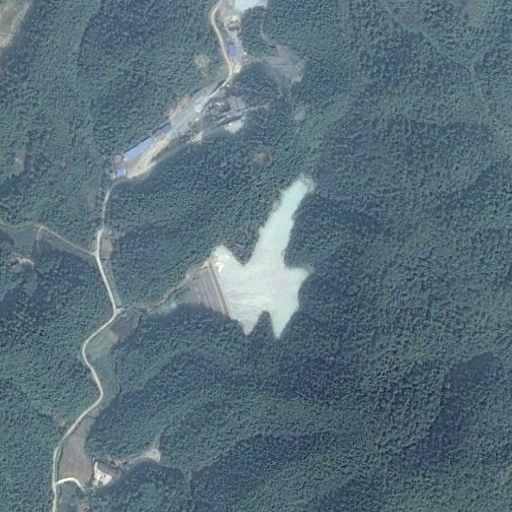tp: (173, 180, 316, 340)
